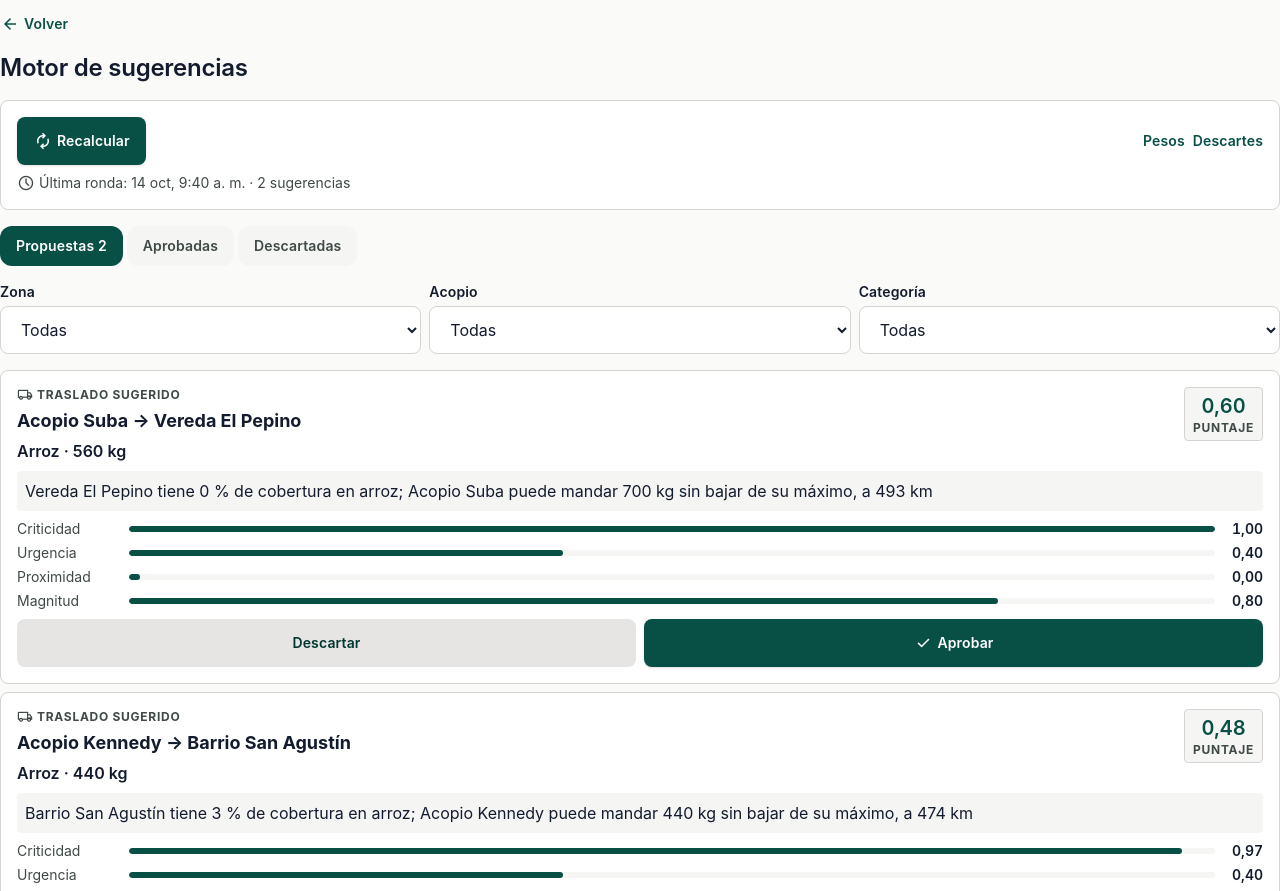
Test case: si ya había borrador, dice a cuál se sumó
Expected: the text "Vereda El Pepino tiene 0 %" is shown, [25,481,933,501]
Click the button "Aprobar".
click(954, 643)  # box [644,619,1263,667]
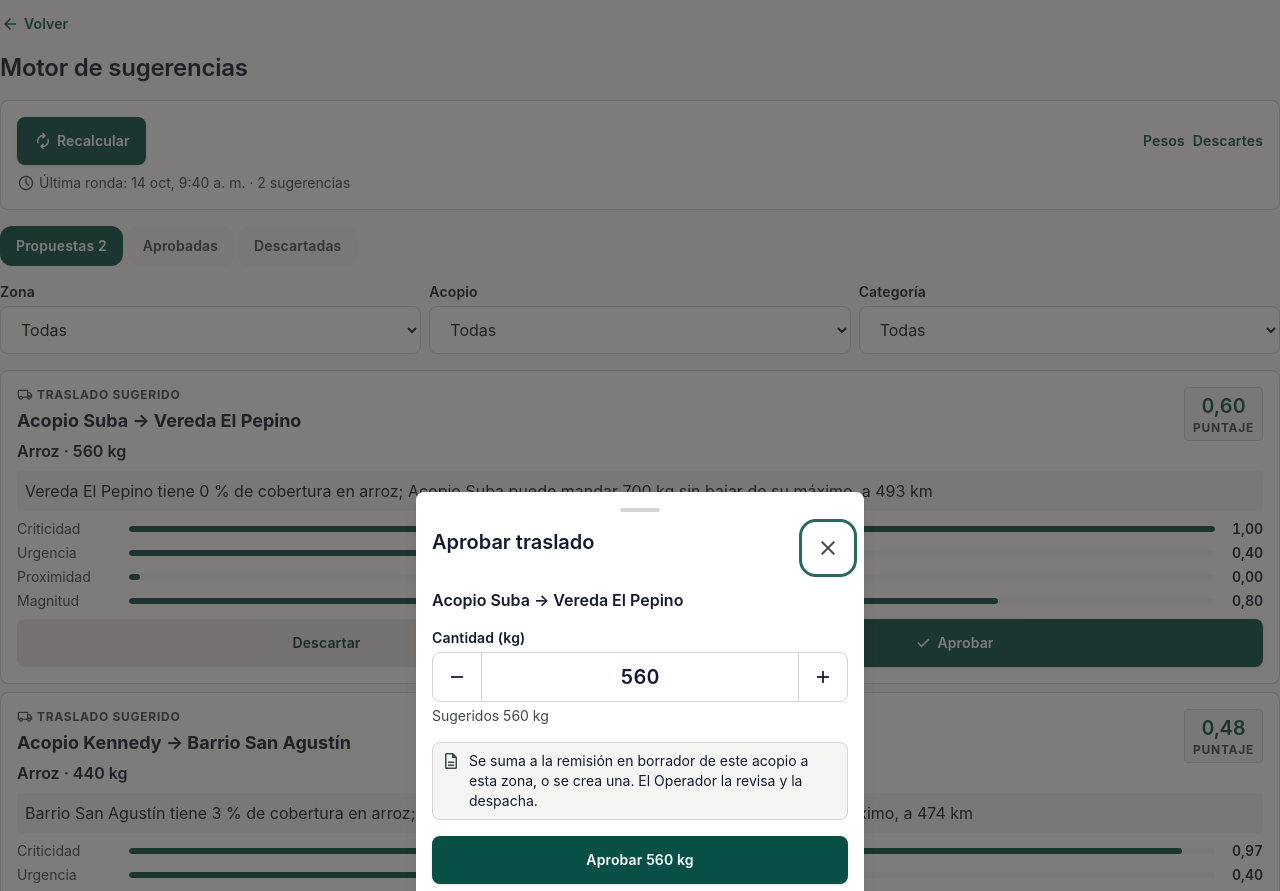
Click the button "Aprobar 560 kg".
click(640, 860)  # box [432,836,848,884]
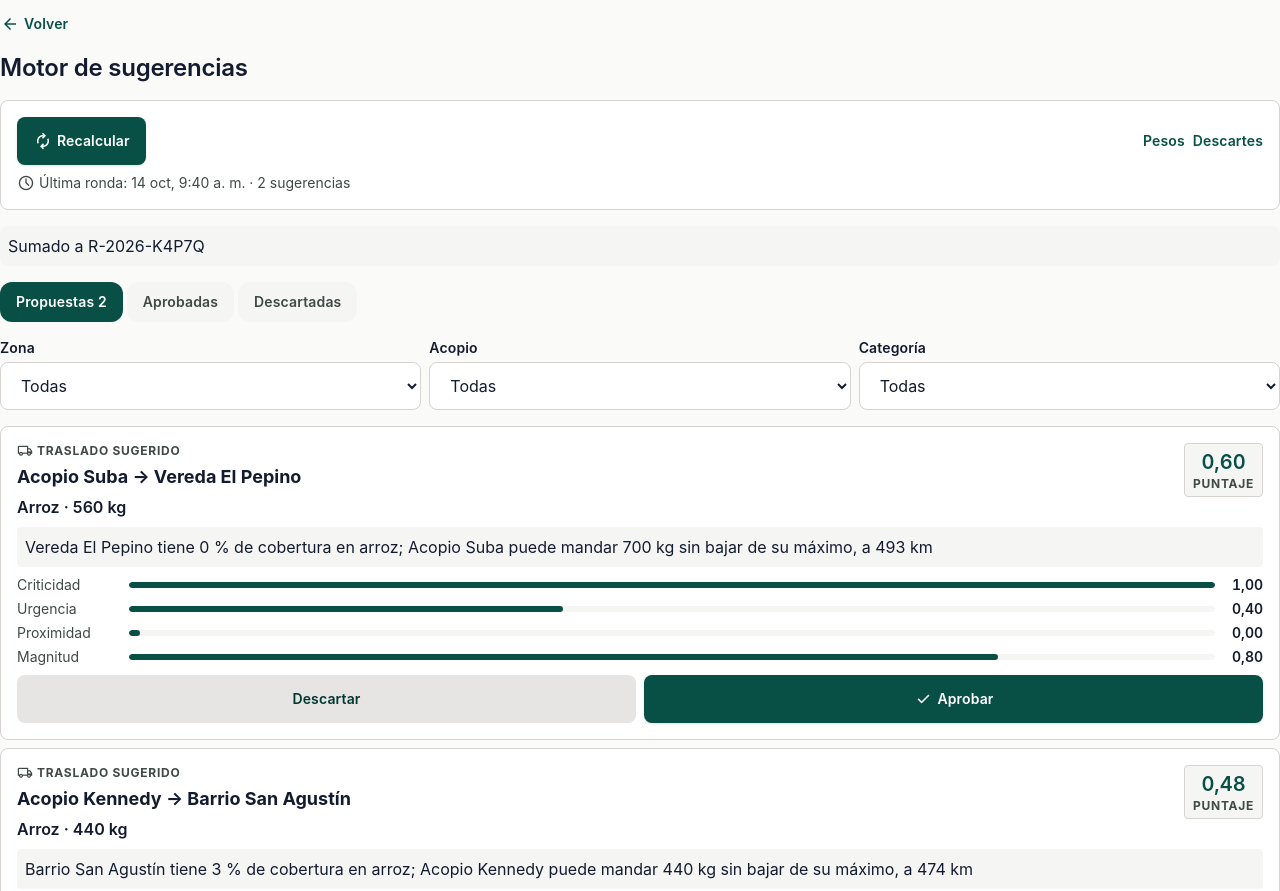
Expected: the text "Sumado a R-2026-K4P7Q" is shown, [0,226,1279,266]
